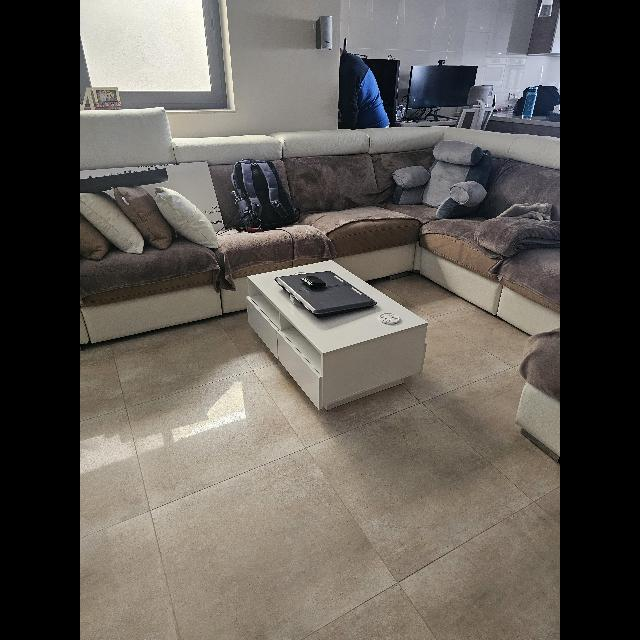Wallet: (300, 276, 326, 288)
